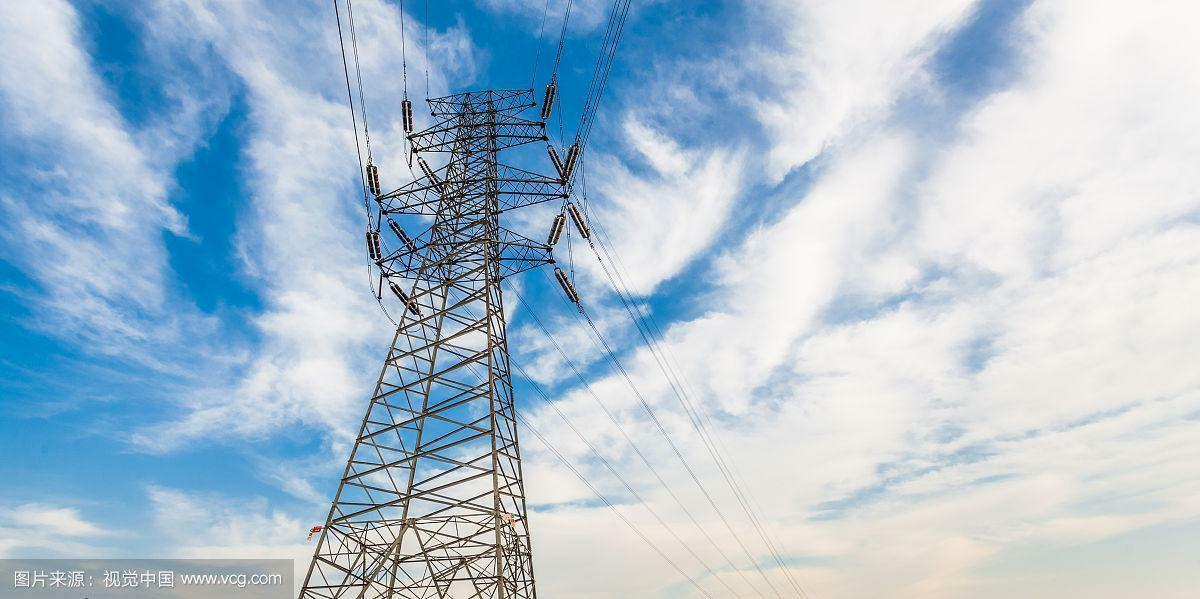power_tower: (292, 70, 597, 599)
